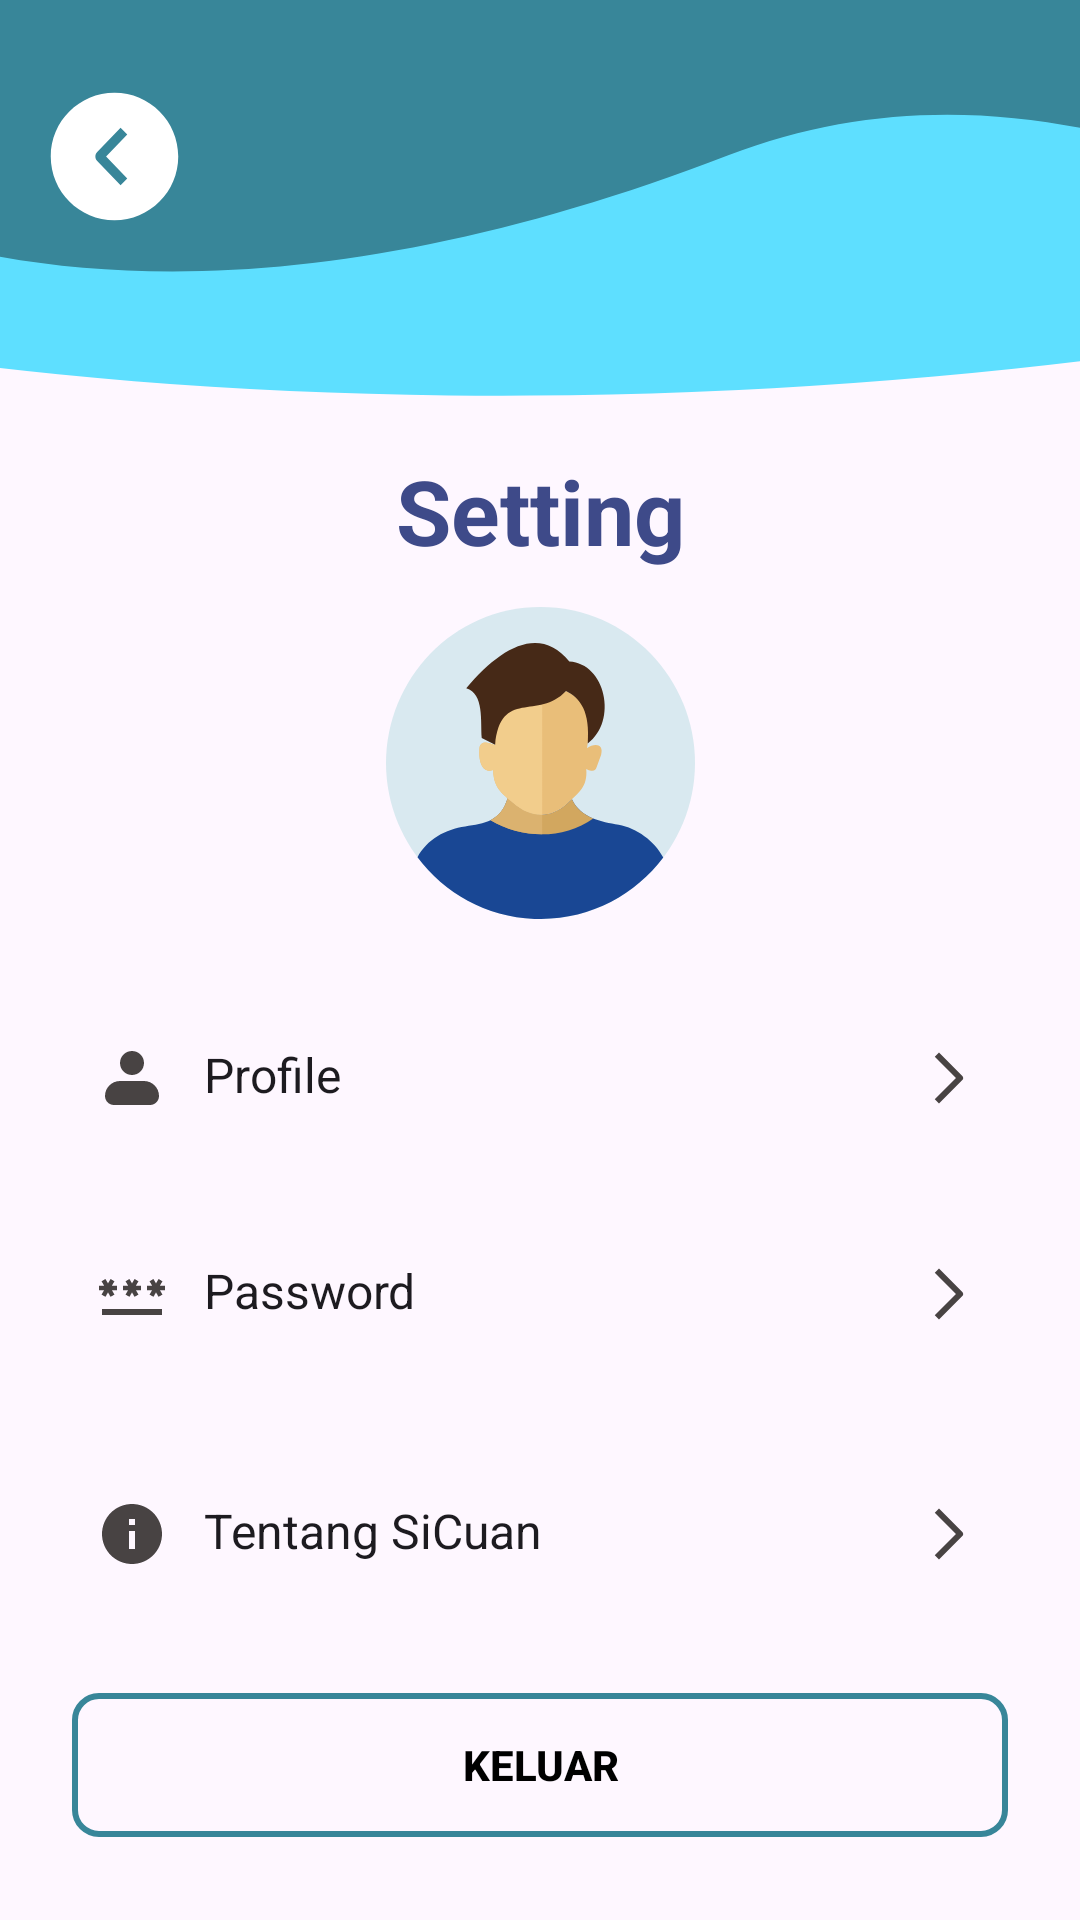

Icon bounding boxes for this 1080w x 1920h phone screenshot, format box=[x1, y1, x2, y2]:
about: box=[102, 1504, 162, 1564]
next: box=[935, 1053, 963, 1104], box=[935, 1269, 963, 1320], box=[935, 1509, 963, 1560]
